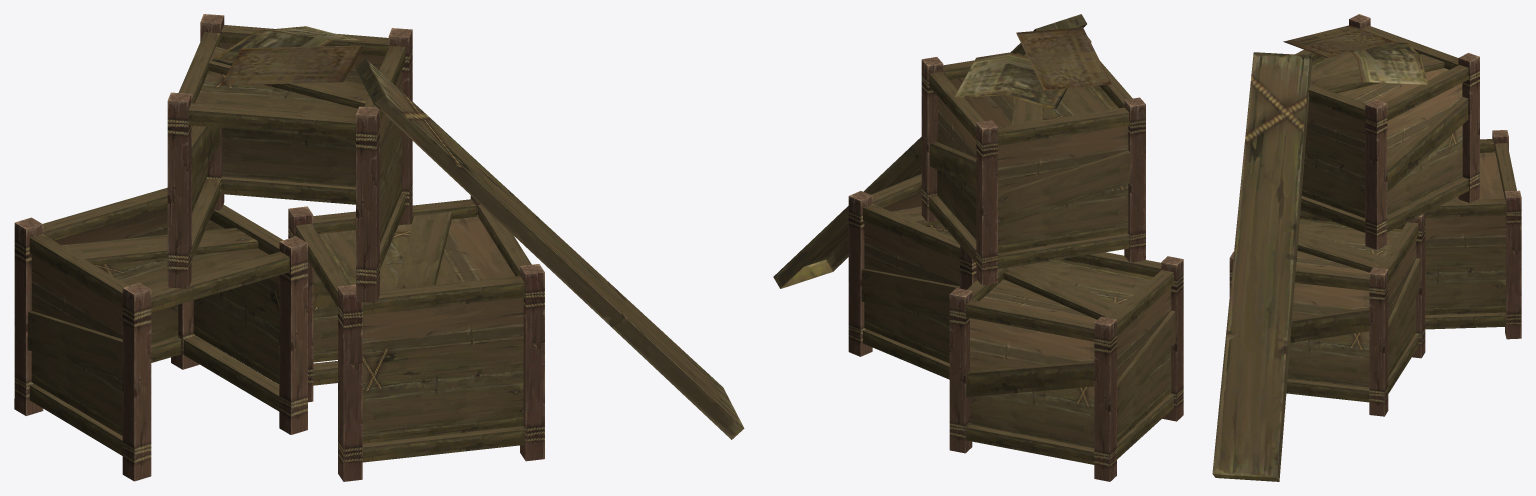
File: bfcs_wujian_01.FBX
The picture shows the model from 3 angles, left to right: view 1: azimuth 30°, elevation 25°; view 2: azimuth 150°, elevation 25°; view 3: azimuth 270°, elevation 25°; orthographic projection. The views are drawn at different scales.
Visible parts, largest first — view 1: bfcs_wujian_01; view 2: bfcs_wujian_01; view 3: bfcs_wujian_01.
Boxes of the visible parts, bbox=[...] form: bfcs_wujian_01: bbox=[14, 14, 744, 481]; bfcs_wujian_01: bbox=[773, 14, 1183, 481]; bfcs_wujian_01: bbox=[1212, 14, 1521, 481].
Size of the model in its own units: 216 by 153 by 137.
